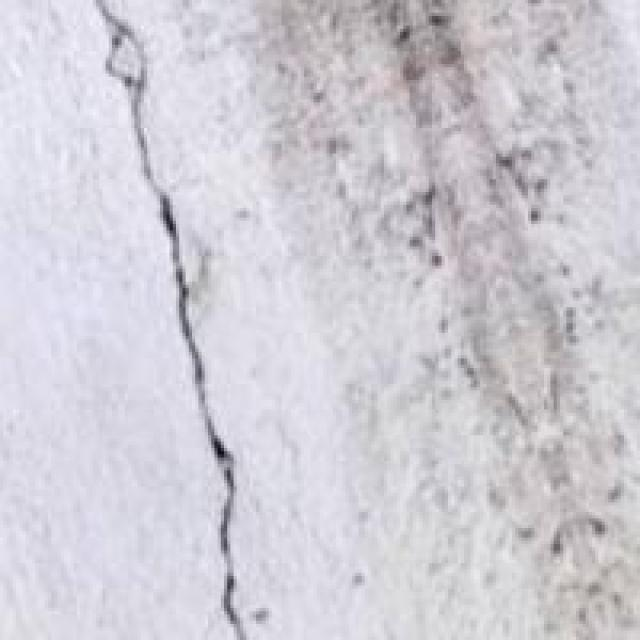crack: (83, 0, 314, 637)
